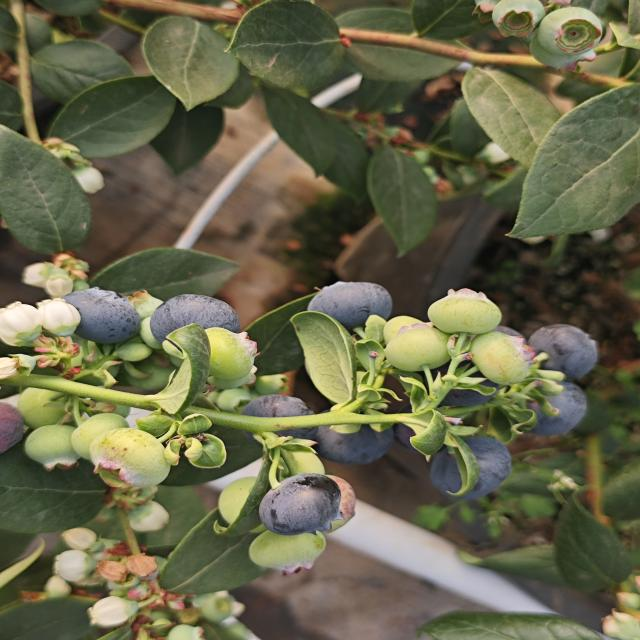ripe: (426, 434, 514, 502), (256, 472, 346, 538), (147, 292, 242, 348), (522, 306, 604, 370), (523, 362, 596, 432), (59, 286, 143, 346), (304, 279, 395, 331), (333, 406, 393, 462), (244, 390, 317, 425)
